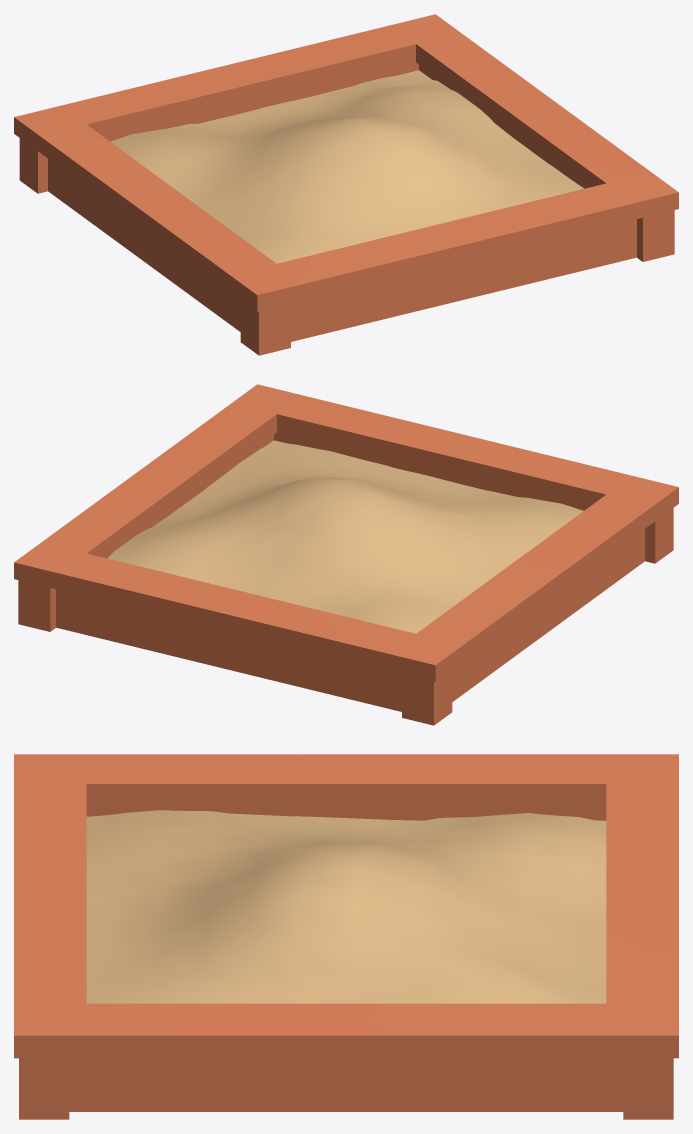
File: Sandbox_02.fbx
The picture shows the model from 3 angles, top to bottom: view 1: azimuth 30°, elevation 25°; view 2: azimuth 150°, elevation 25°; view 3: azimuth 270°, elevation 25°; orthographic projection. The views are drawn at different scales.
Visible parts, largest first — view 1: Sandbox_02; view 2: Sandbox_02; view 3: Sandbox_02.
Boxes of the visible parts, left/top/right/bottom form: Sandbox_02: left=14, top=14, right=678, bottom=355; Sandbox_02: left=14, top=384, right=678, bottom=725; Sandbox_02: left=14, top=754, right=678, bottom=1119.
Size of the model in its own units: 2.29 by 0.4689 by 2.29.
